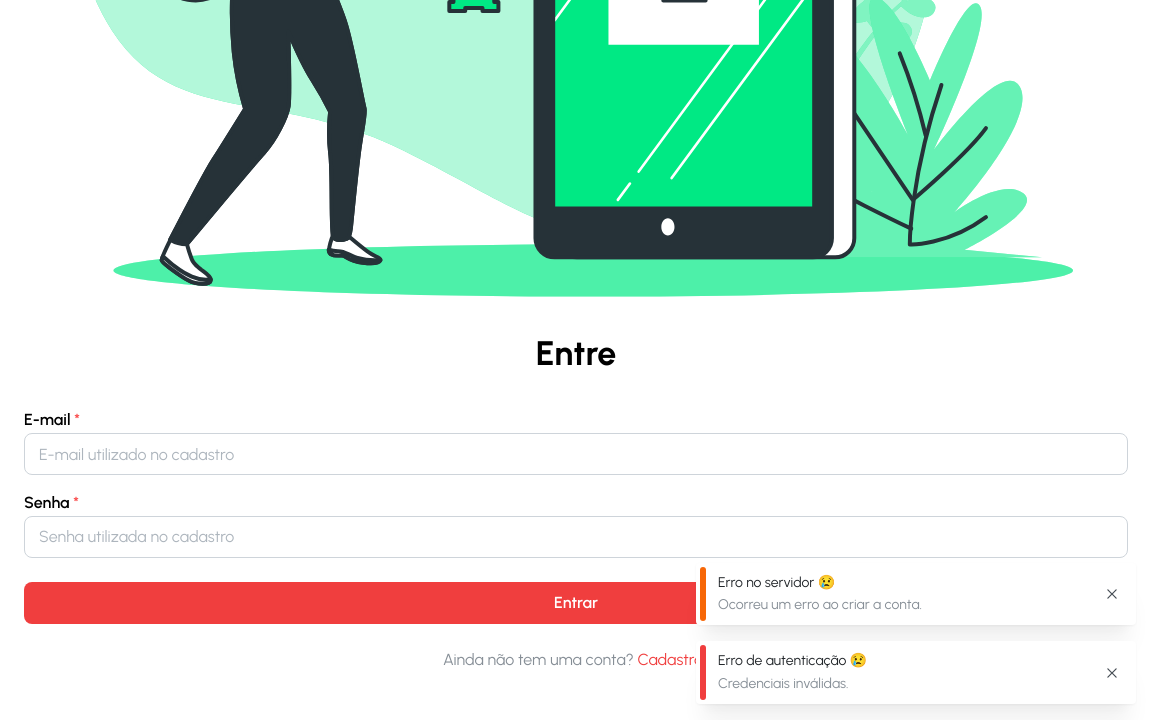
Test: shows notification when everything goes well
The image size is (1152, 720).
(page scrolled)
Type "email@email.com" into the field labelled "E-mail *" at x=576, y=454, box x1=24 y1=433 x2=1128 y2=475
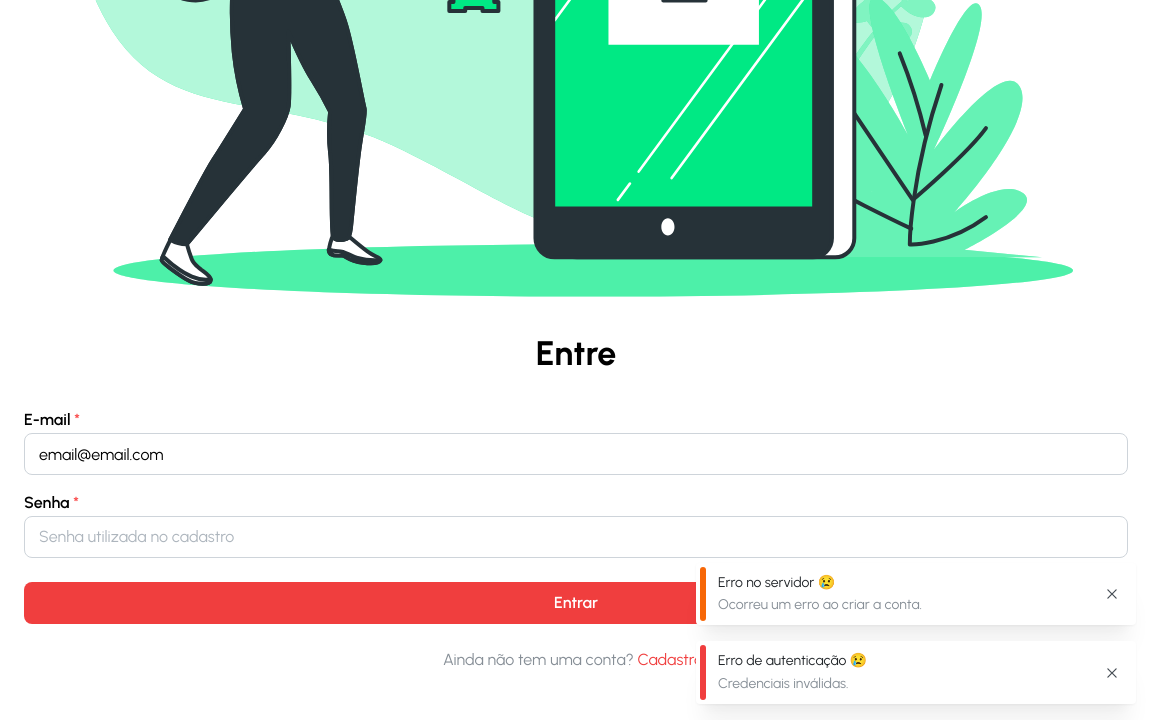
Type "password123" into the password field labelled "Senha *" at x=576, y=537, box x1=24 y1=516 x2=1128 y2=558
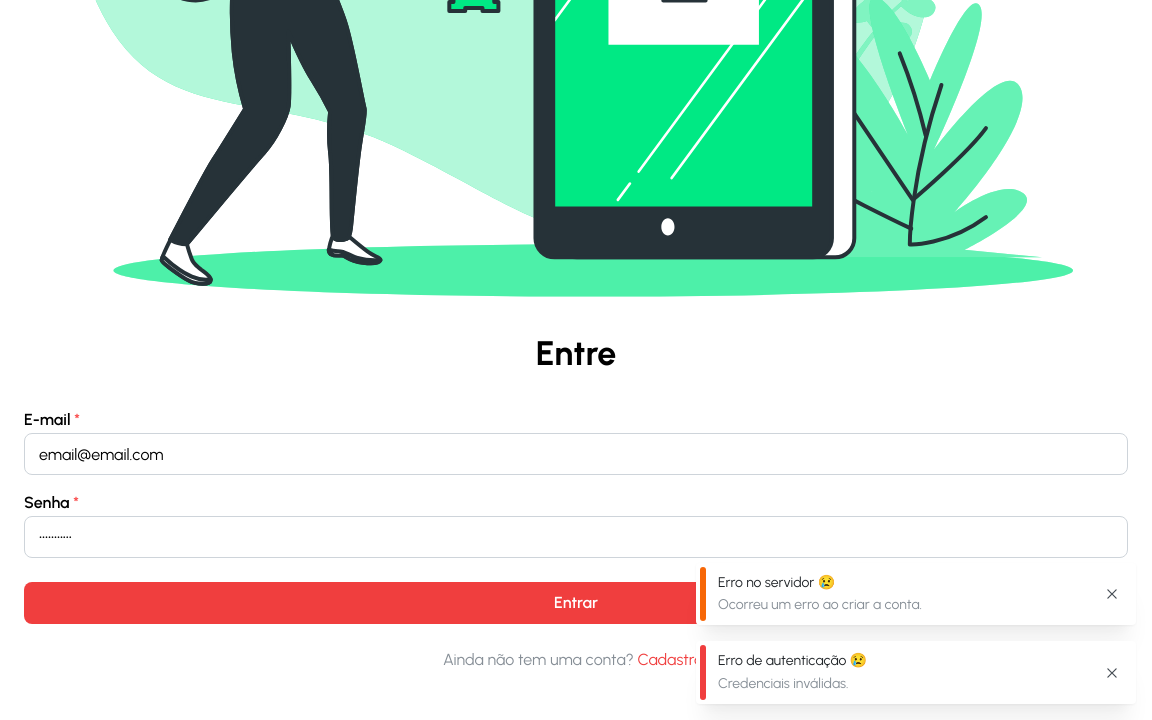
Submit the form from the button "Entrar", box x1=24 y1=582 x2=1128 y2=624
(page scrolled)
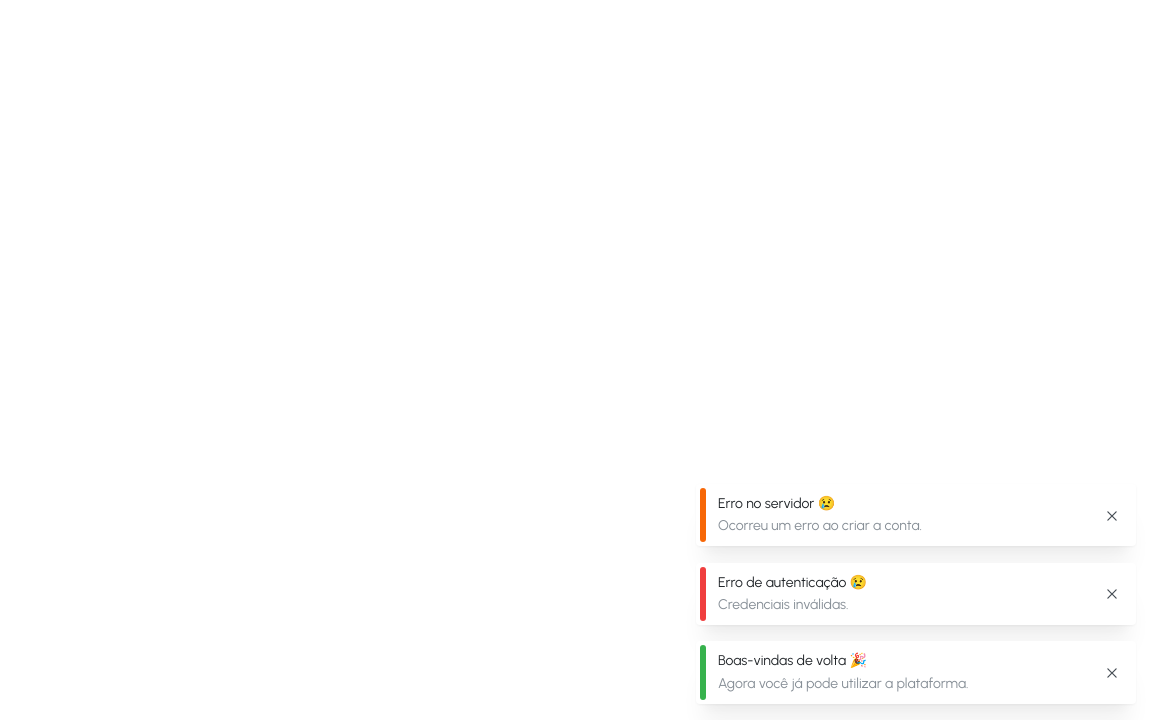
Check: the text "Boas-vindas de volta 🎉" is shown, box x1=718 y1=652 x2=867 y2=669
